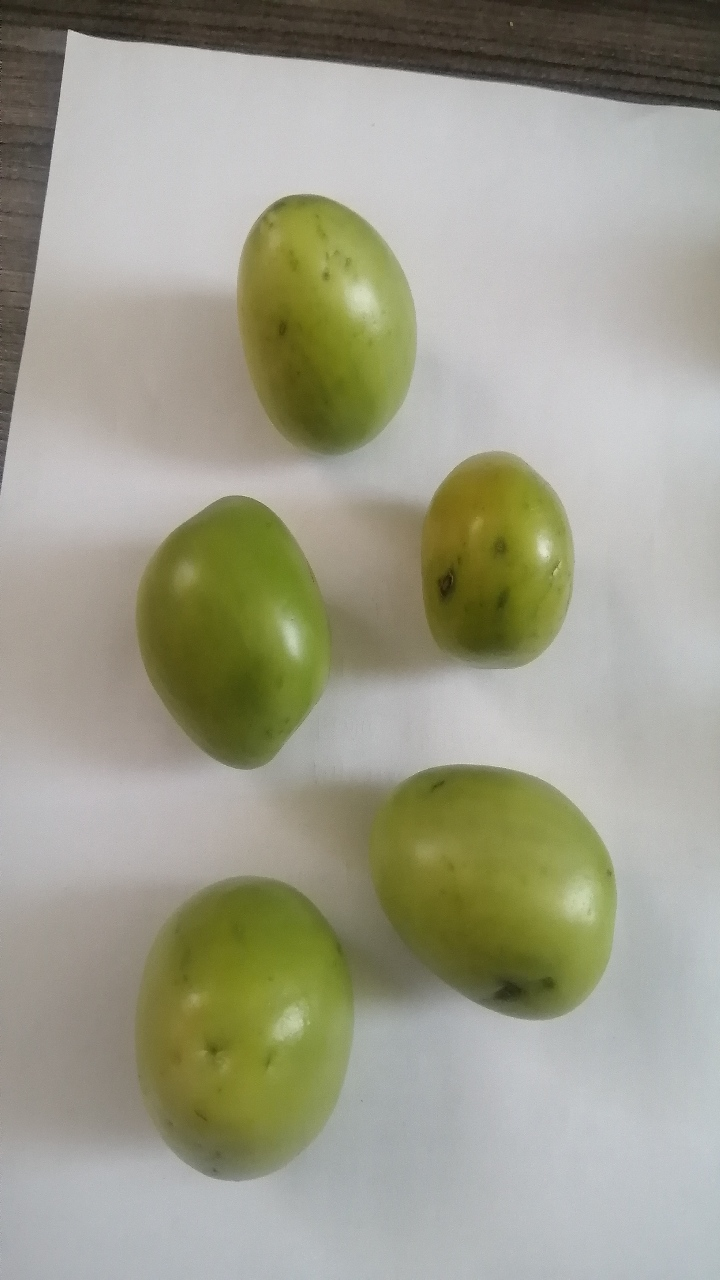tomateVerde: (114, 862, 395, 1212), (354, 746, 641, 1060), (123, 472, 349, 788), (221, 168, 448, 469), (394, 437, 604, 691)
